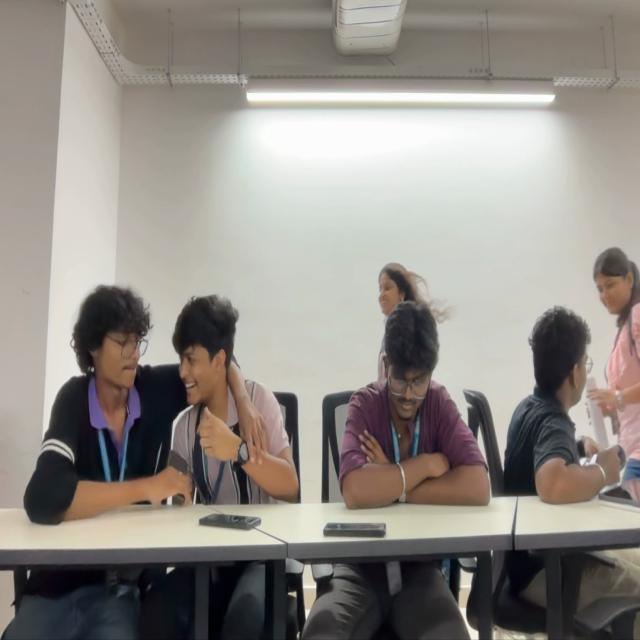Isolated: (338, 302, 494, 506)
socializing: (22, 285, 299, 524), (505, 245, 640, 501)
